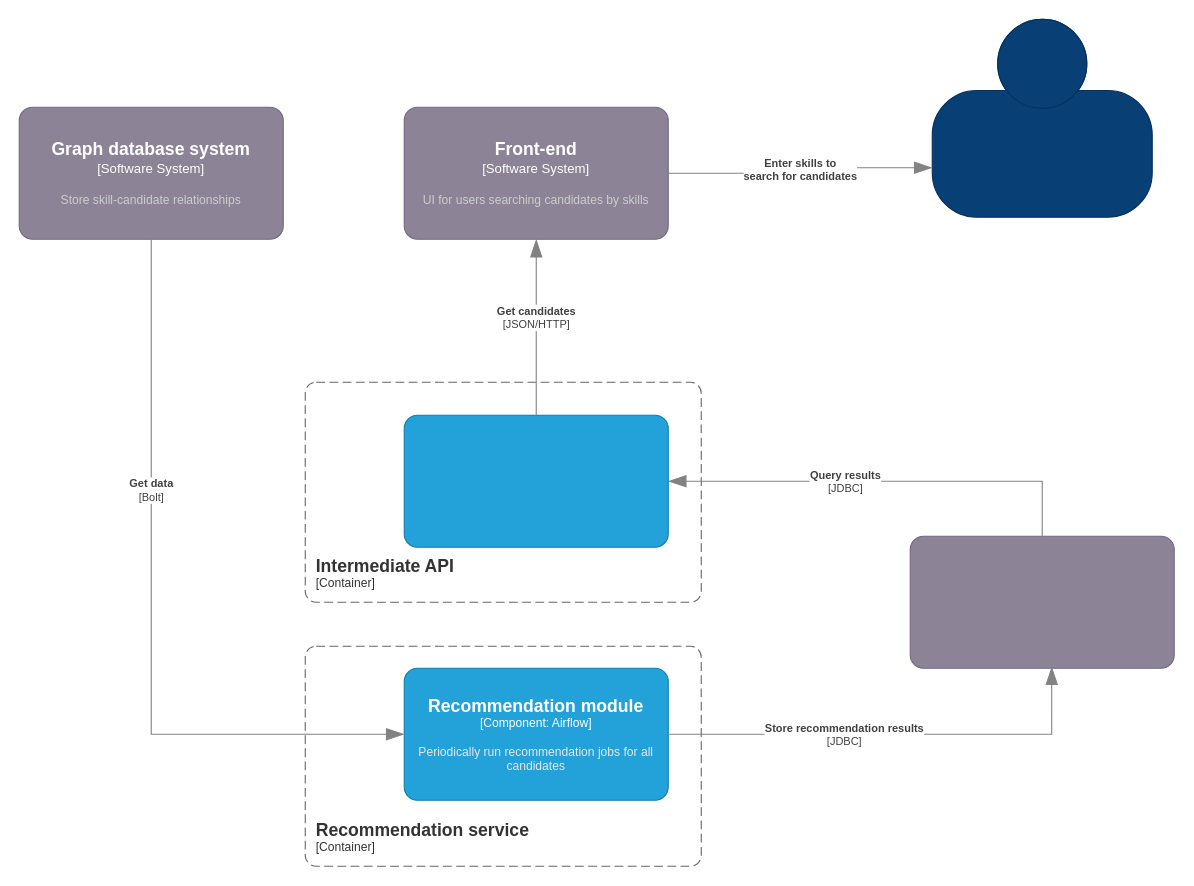
Some shapes in this 1194 by 886 pixel diagram are drawn without their labels. The shapes that lost their labels are listed below. From the top down, each one's centre as x and y in pixels, then its label:
At (x=1041, y=117): "End user [Person] HRs who are looking for candidates".
At (x=535, y=480): "Query module [Component: FastAPI] Query candidates given the input skills".
At (x=1041, y=601): "Database system [Software System] UI for users searching candidates by skills".
